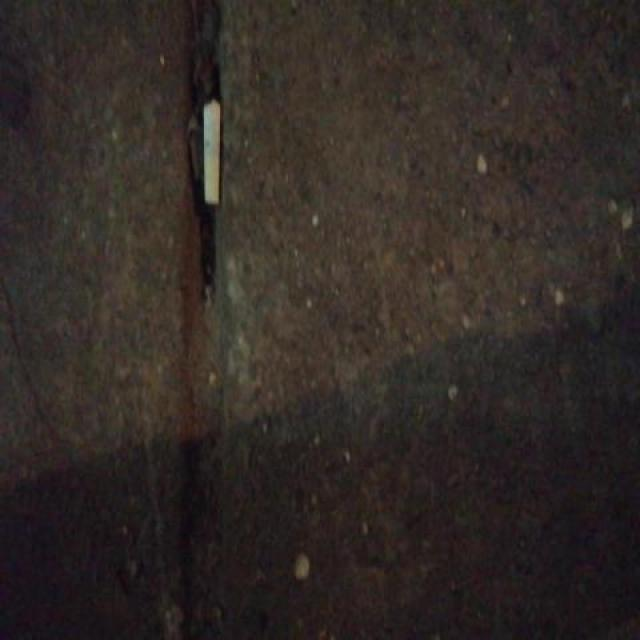non-organic waste: (200, 96, 224, 209)
